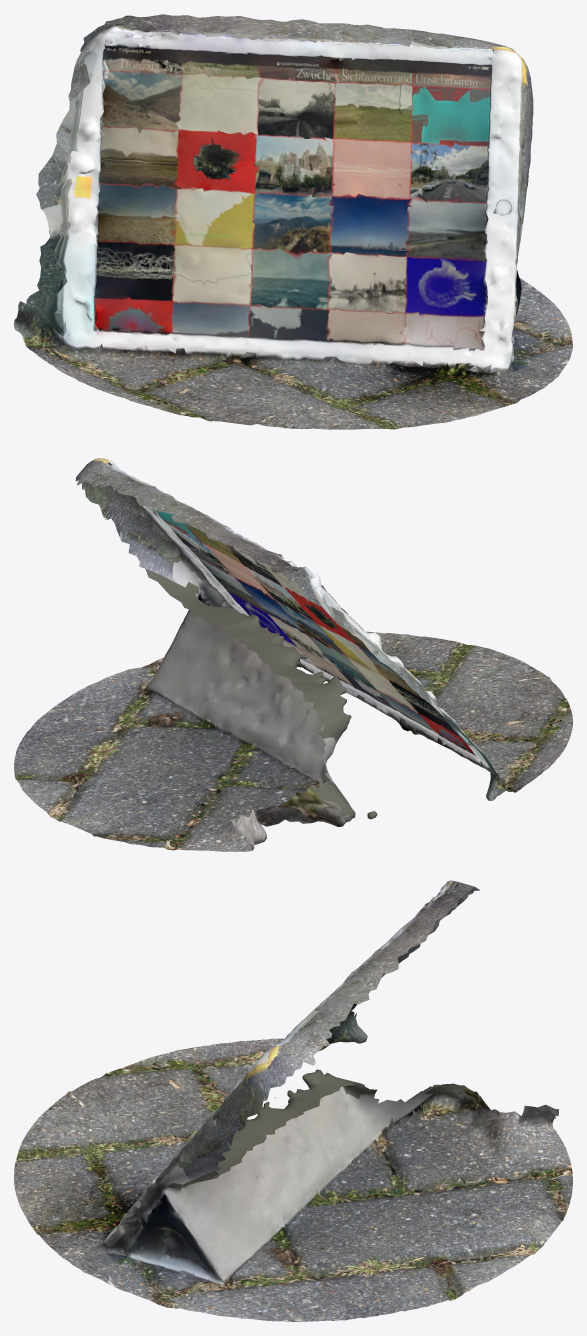
Rendered from ana.glb.
The picture shows the model from 3 angles, top to bottom: view 1: azimuth 30°, elevation 25°; view 2: azimuth 150°, elevation 25°; view 3: azimuth 270°, elevation 25°; orthographic projection. The views are drawn at different scales.
Parts seen in each view (by area): view 1: model.005; view 2: model.005; view 3: model.005.
Boxes of the visible parts, x1,y1,x2,y2 form: model.005: (14, 14, 572, 429); model.005: (14, 458, 572, 851); model.005: (14, 880, 572, 1321).
Size of the model in its own units: 3.96 by 2.2 by 3.97.
Materials: 2 (2 with a texture image).
